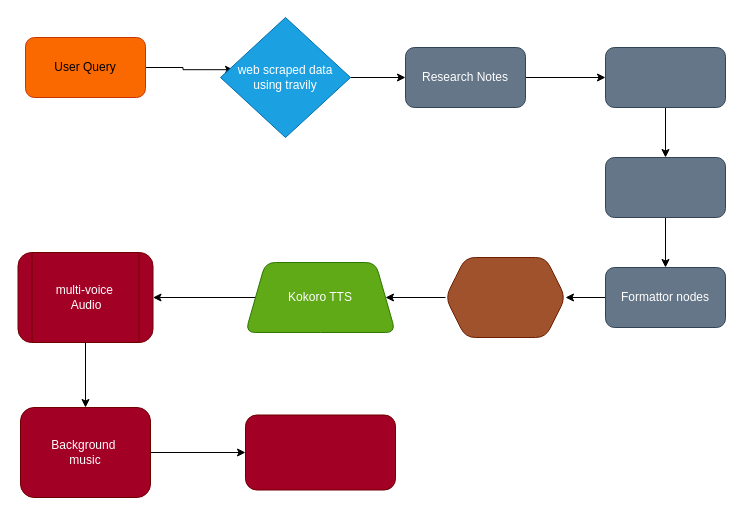
Some shapes in this 743 by 515 pixel diagram are drawn without their labels. The box of each missing label's shape, as (x1, y1, x2, y2) in pixels:
Editor notes: (604, 156, 726, 218)
Final Script: (444, 256, 566, 338)
Podcast Delivered: (244, 414, 396, 490)
Scriptwriter notes: (604, 46, 726, 108)
